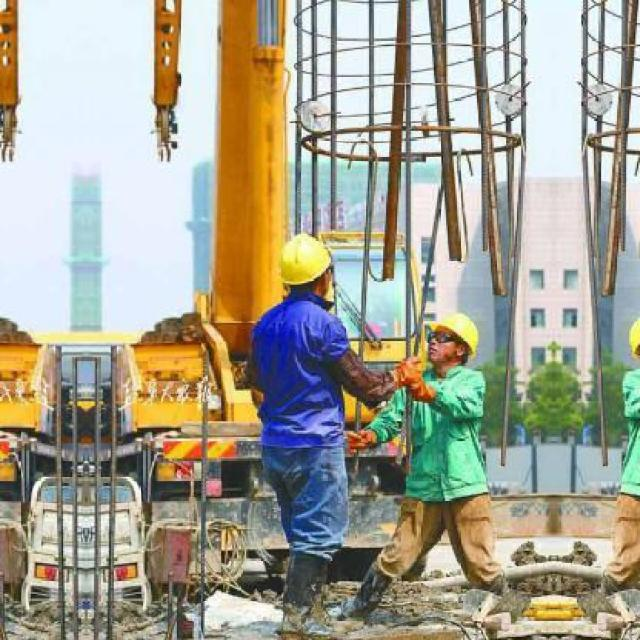helmet: (274, 232, 337, 294), (432, 309, 490, 363)
